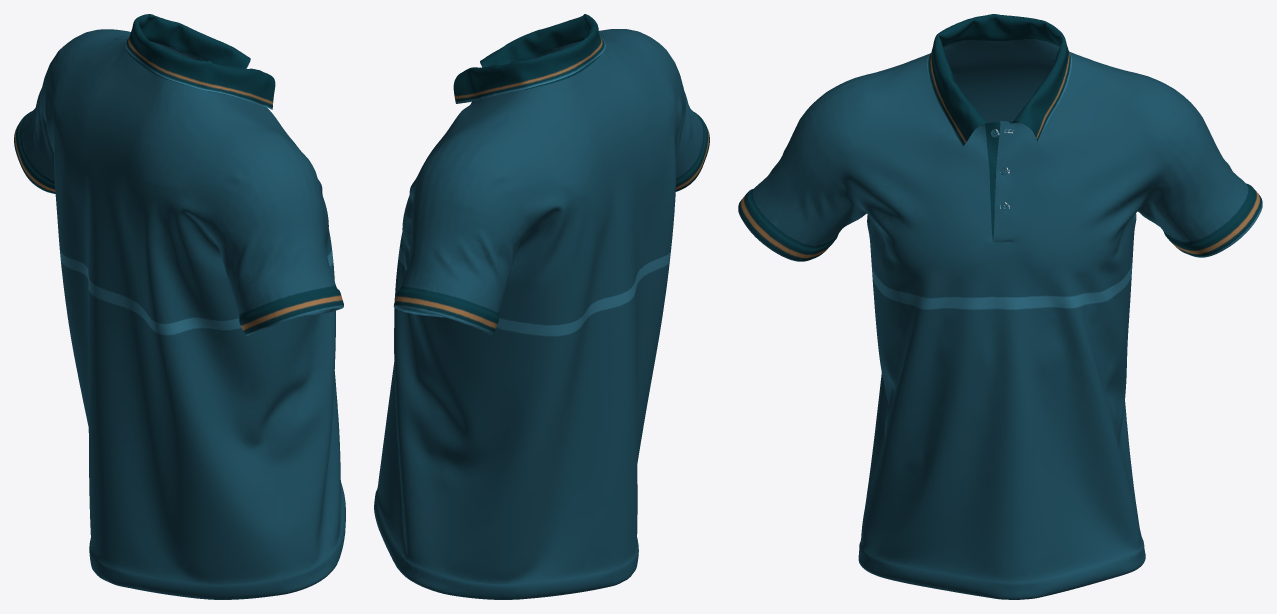
The model's file is polo.glb.
3 renders of one model, left to right at view 1: azimuth 30°, elevation 25°; view 2: azimuth 150°, elevation 25°; view 3: azimuth 270°, elevation 25°, orthographic. The views are drawn at different scales.
Visible parts, largest first — view 1: Object_5; view 2: Object_5; view 3: Object_5.
Part boxes in pixels (x1,y1,x2,y2): Object_5: (14,14,345,599); Object_5: (374,14,709,599); Object_5: (738,14,1262,599).
Bounding box in the file's own units: 0.3519 × 0.7246 × 0.6657.
1 material, 1 textured.
